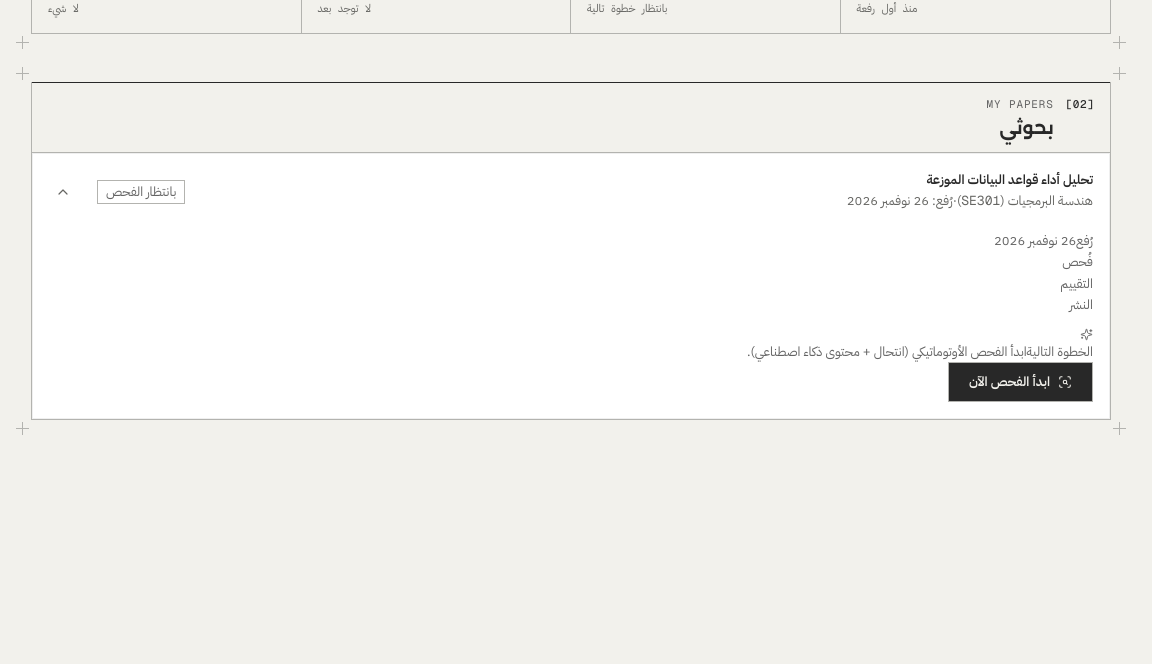
StudentResearchPage — scan pending honesty (R305-A7 regression) › the scan button disables with «جارٍ بدء الفحص…» while its request is in flight — and cannot double-fire
The width and height of the screenshot is (1152, 664).
(page scrolled)
Click the button "ابدأ الفحص الآن": (1020, 382) x1=948 y1=362 x2=1093 y2=402
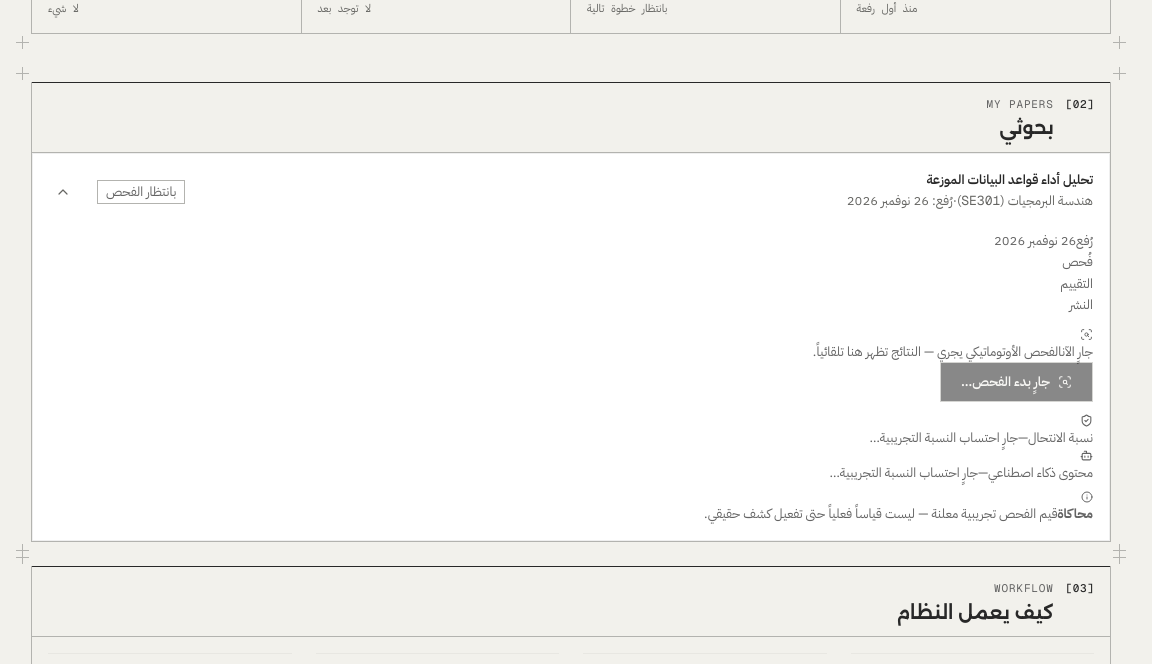
Expected: the button "جارٍ بدء الفحص…" is disabled
Click the button "جارٍ بدء الفحص…": (1017, 382) x1=940 y1=362 x2=1093 y2=402
(page scrolled)
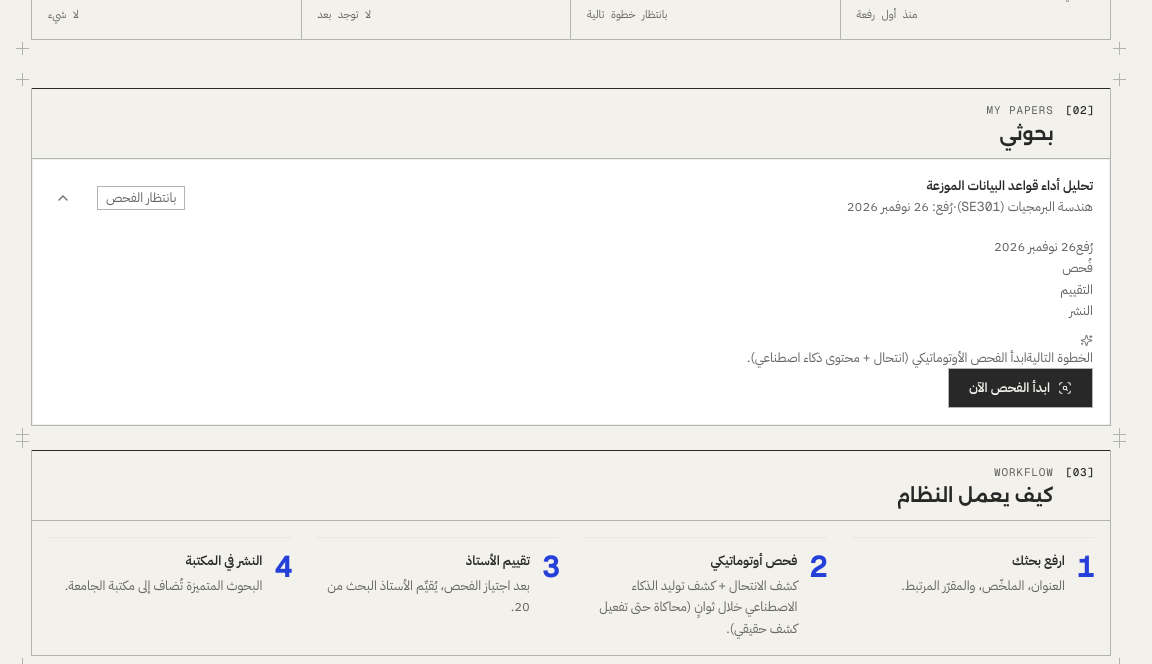
Expected: the button "ابدأ الفحص الآن" is shown, x1=948 y1=368 x2=1093 y2=408
